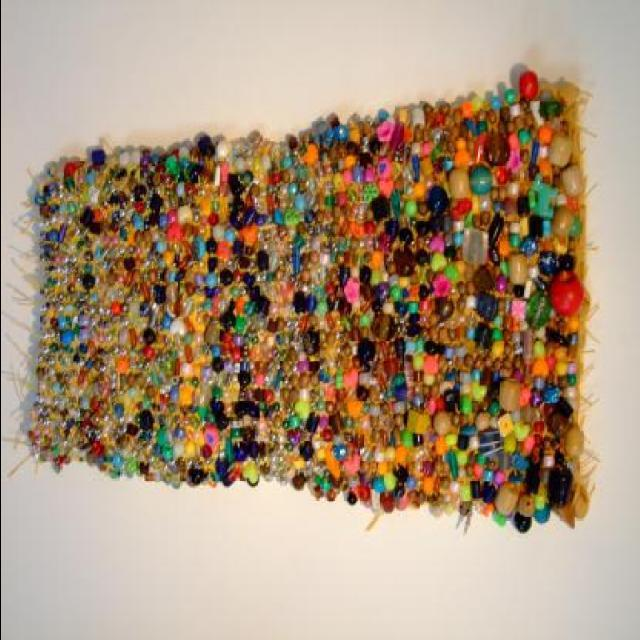Candy: (84, 142, 560, 486)
